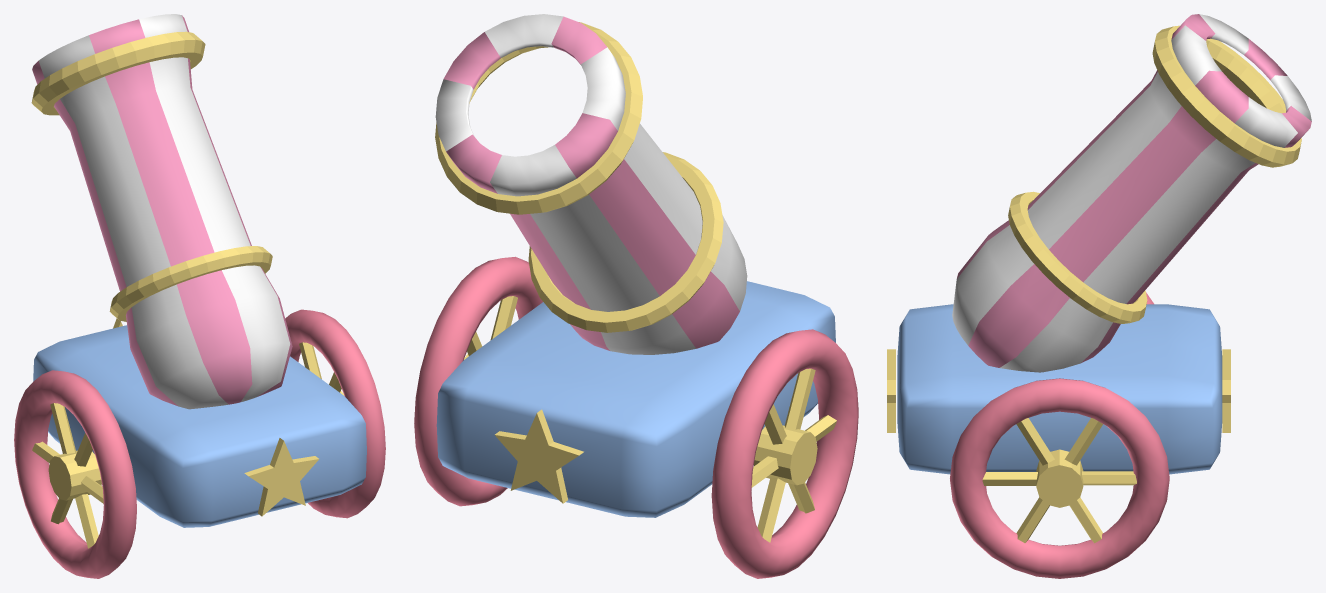
Rendered from LobbyConfettiCannon.glb.
The picture shows the model from 3 angles, left to right: view 1: azimuth 30°, elevation 25°; view 2: azimuth 150°, elevation 25°; view 3: azimuth 270°, elevation 25°; orthographic projection. The views are drawn at different scales.
Parts seen in each view (by area): view 1: Cart, BarrelStripes, Wheels, Barrel, Trim; view 2: Cart, Wheels, BarrelStripes, Trim, Barrel; view 3: Cart, BarrelStripes, Barrel, Wheels, Trim.
Boxes of the visible parts, bbox=[...] form: Cart: bbox=[33, 325, 366, 527]; BarrelStripes: bbox=[38, 14, 290, 409]; Wheels: bbox=[14, 309, 385, 578]; Barrel: bbox=[32, 15, 292, 406]; Trim: bbox=[31, 31, 344, 548]; Cart: bbox=[436, 281, 835, 517]; Wheels: bbox=[414, 256, 858, 578]; BarrelStripes: bbox=[435, 14, 747, 354]; Trim: bbox=[435, 22, 836, 542]; Barrel: bbox=[443, 16, 739, 350]; Cart: bbox=[897, 304, 1222, 474]; BarrelStripes: bbox=[952, 14, 1311, 372]; Barrel: bbox=[957, 14, 1311, 367]; Wheels: bbox=[950, 292, 1169, 578]; Trim: bbox=[887, 25, 1301, 543].
Size of the model in its own units: 4.5 by 7.33 by 5.75.
